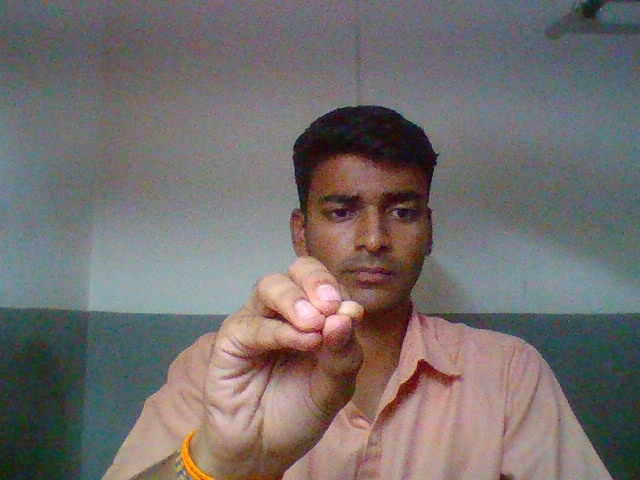Z: (196, 238, 389, 449)
